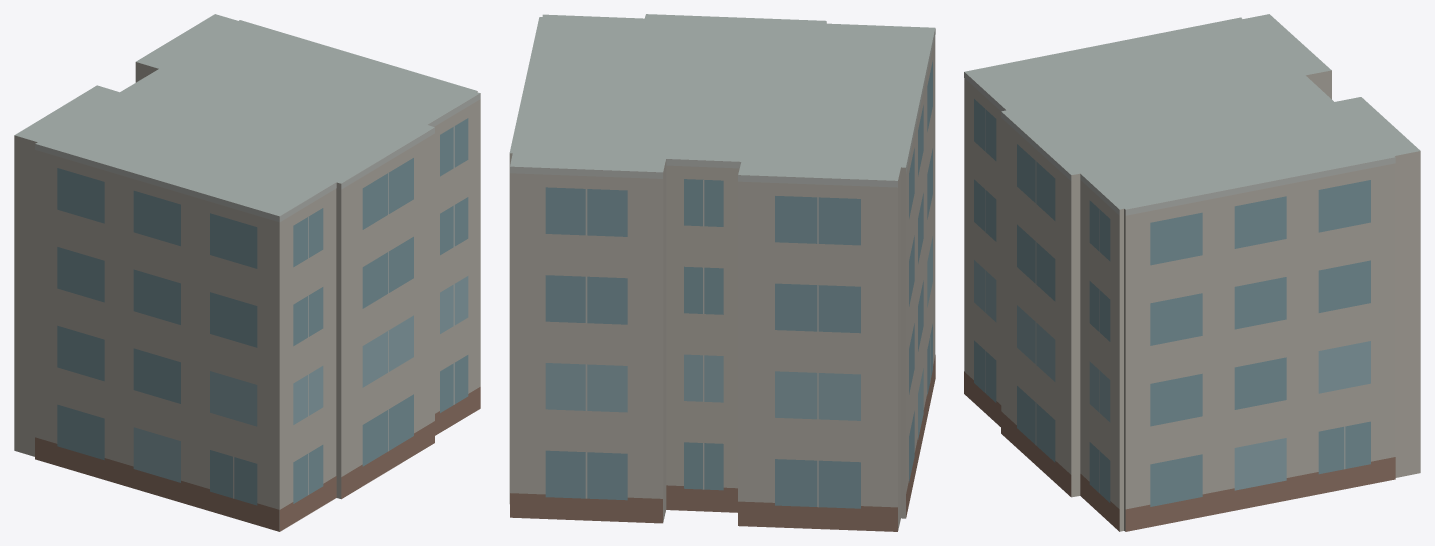
File: survey-upis-32620439.glb
The picture shows the model from 3 angles, left to right: view 1: azimuth 30°, elevation 25°; view 2: azimuth 150°, elevation 25°; view 3: azimuth 270°, elevation 25°; orthographic projection. The views are drawn at different scales.
Parts seen in each view (by area): view 1: survey-upis-32620439.tmp; view 2: survey-upis-32620439.tmp; view 3: survey-upis-32620439.tmp.
Boxes of the visible parts, x1,y1,x2,y2 form: survey-upis-32620439.tmp: (14,14,480,531); survey-upis-32620439.tmp: (509,14,935,531); survey-upis-32620439.tmp: (964,14,1420,531).
Size of the model in its own units: 16.82 by 12.9 by 16.58.
